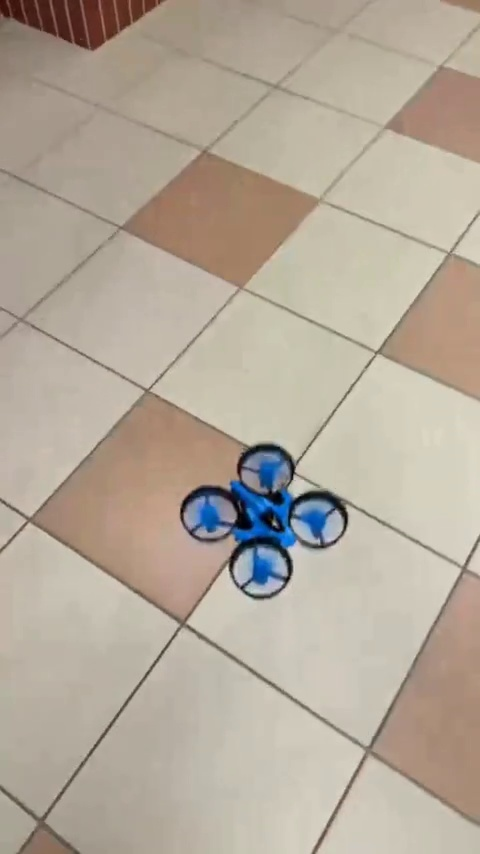drone: (179, 445, 348, 595)
